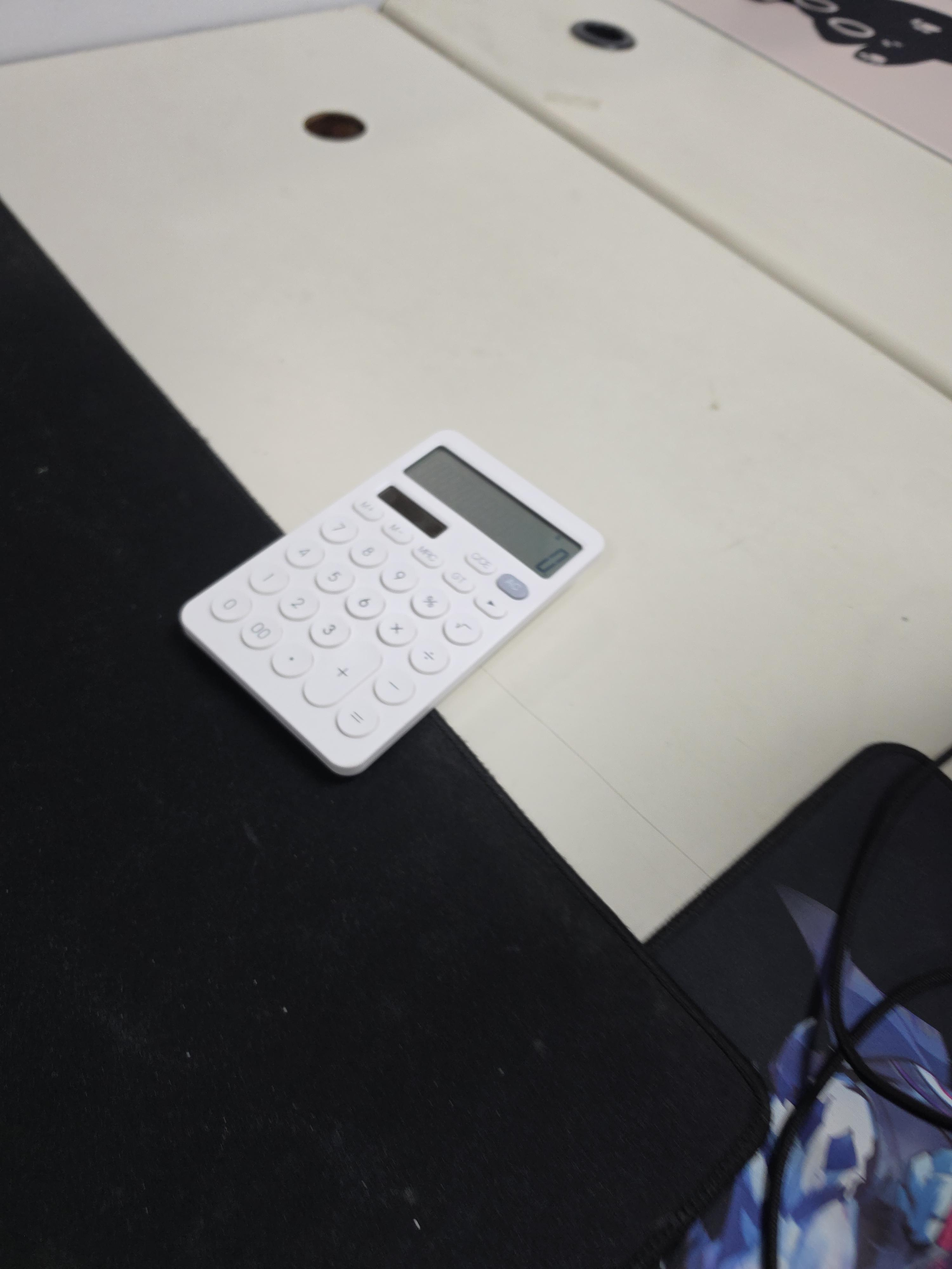calculator: (177, 430, 607, 779)
